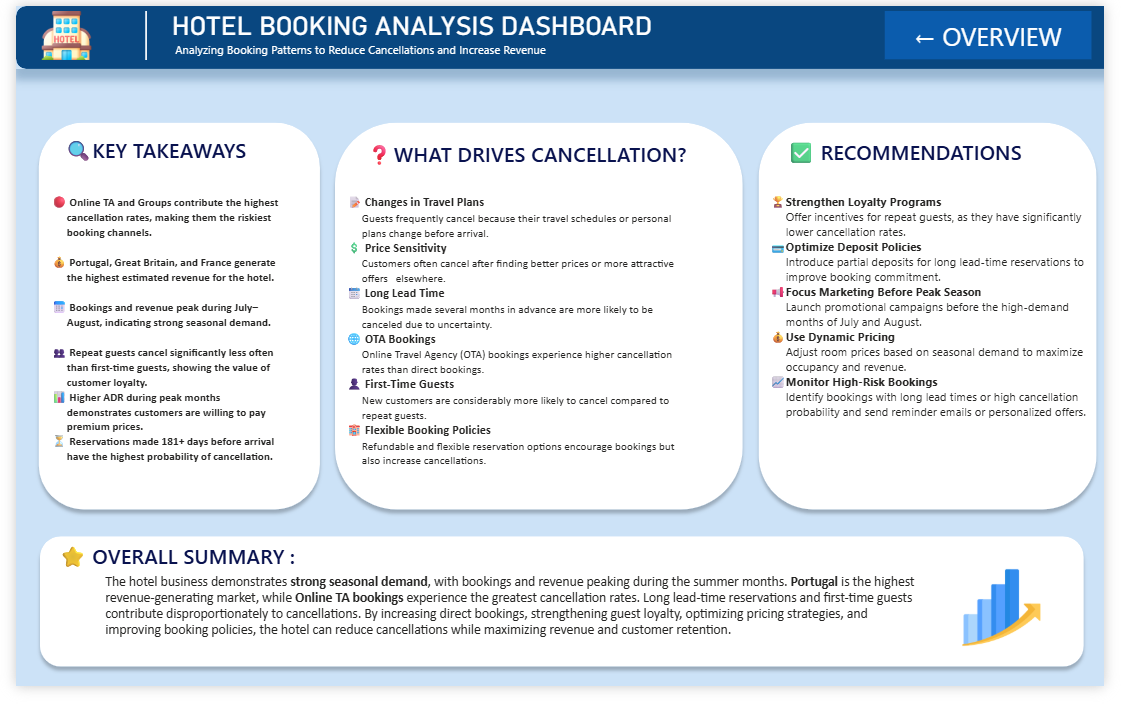

The dashboard page shown, as its layout file describes it:
{"tool":"powerbi","page":{"name":"Insights","canvas":[1280,800],"ordinal":1},"visuals":[{"type":"shape","box":[0,0,1650,74],"z":0},{"type":"shape","box":[76.3,6.3,153.2,57.9],"z":1000},{"type":"image","box":[18.9,6.3,81.1,57.9],"z":2000},{"type":"textbox","box":[182.2,36.7,478.9,27.8],"z":3000},{"type":"shape","title":"Key Takeaways","box":[17.8,127.8,348.9,473.3],"z":4000},{"type":"textbox","box":[36.7,216.7,302.2,341.1],"z":5000},{"type":"shape","title":"Key Takeaways","box":[864.4,127.8,415.6,473.3],"z":6000},{"type":"shape","title":"Key Takeaways","box":[366.7,127.8,497.8,473.3],"z":7000},{"type":"textbox","box":[384.4,216.7,407.8,333.3],"z":8000},{"type":"textbox","box":[882.2,216.7,382.2,333.3],"z":9000},{"type":"shape","title":"Key Takeaways","box":[19,614.3,1246,171.4],"z":10000},{"type":"textbox","box":[100,661.9,973,92.1],"z":11000},{"type":"image","box":[1087.3,661.9,144.4,92.1],"z":12000},{"type":"actionButton","box":[1022.2,6.3,242.9,57.1],"z":13000}]}

Visuals, with their boxes in screenshot pixels (x1, y1, x2, y2), scaled from the page's 1280x800 canvas onto the 1121x722 screenshot:
shape: [x1=0, y1=0, x2=1120, y2=67]
shape: [x1=67, y1=6, x2=201, y2=58]
image: [x1=17, y1=6, x2=88, y2=58]
textbox: [x1=160, y1=33, x2=579, y2=58]
"Key Takeaways" shape: [x1=16, y1=115, x2=321, y2=542]
textbox: [x1=32, y1=196, x2=297, y2=503]
"Key Takeaways" shape: [x1=757, y1=115, x2=1120, y2=542]
"Key Takeaways" shape: [x1=321, y1=115, x2=757, y2=542]
textbox: [x1=337, y1=196, x2=694, y2=496]
textbox: [x1=773, y1=196, x2=1107, y2=496]
"Key Takeaways" shape: [x1=17, y1=554, x2=1108, y2=709]
textbox: [x1=88, y1=597, x2=940, y2=680]
image: [x1=952, y1=597, x2=1079, y2=680]
actionButton: [x1=895, y1=6, x2=1108, y2=57]
